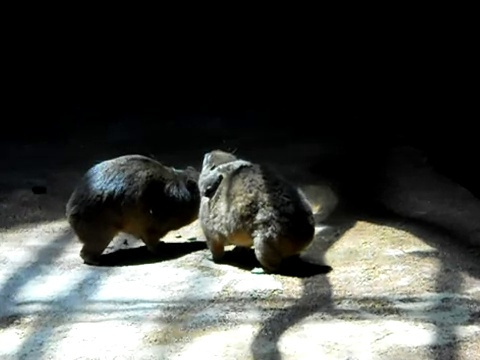Rock Hyrex: (68, 154, 201, 268), (198, 149, 316, 274)
